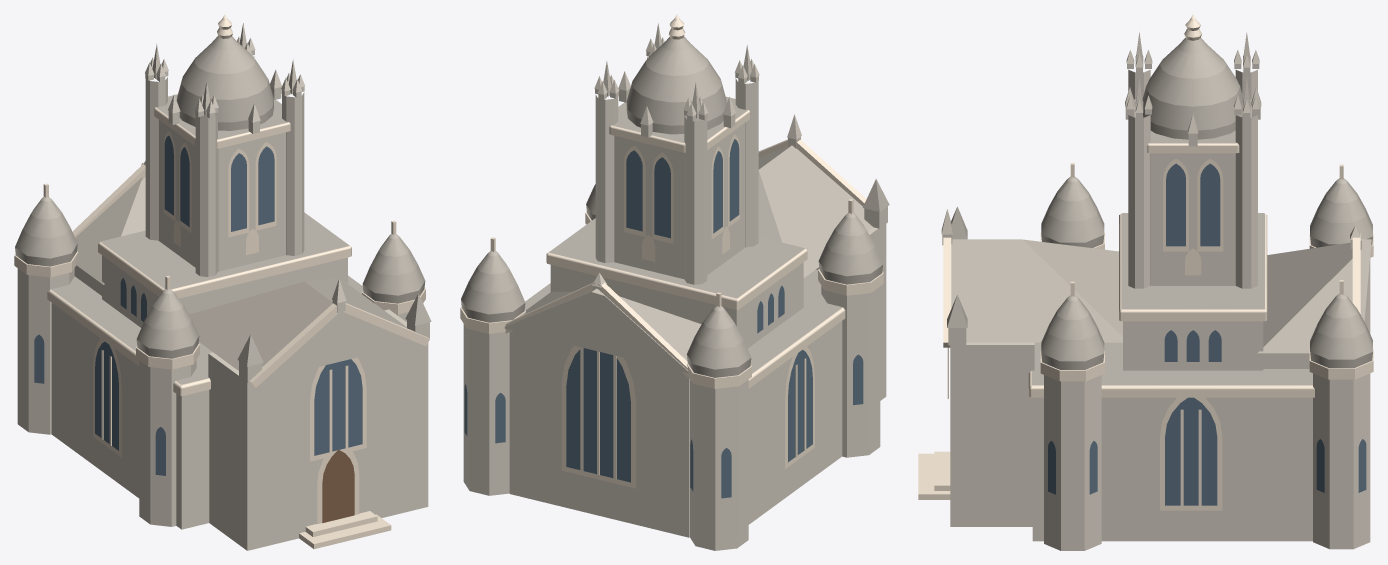
File: nyc-green-wood-chapel.glb
3 views of the same model, side by side, from view 1: azimuth 30°, elevation 25°; view 2: azimuth 150°, elevation 25°; view 3: azimuth 270°, elevation 25° (orthographic). The views are drawn at different scales.
Visible parts, largest first — view 1: Green-Wood Historic Chapel; view 2: Green-Wood Historic Chapel; view 3: Green-Wood Historic Chapel.
Boxes of the visible parts, x1,y1,x2,y2 form: Green-Wood Historic Chapel: [14, 14, 431, 550]; Green-Wood Historic Chapel: [460, 14, 889, 550]; Green-Wood Historic Chapel: [918, 14, 1373, 550].
Size of the model in its own units: 17.2 by 25.6 by 22.7.
